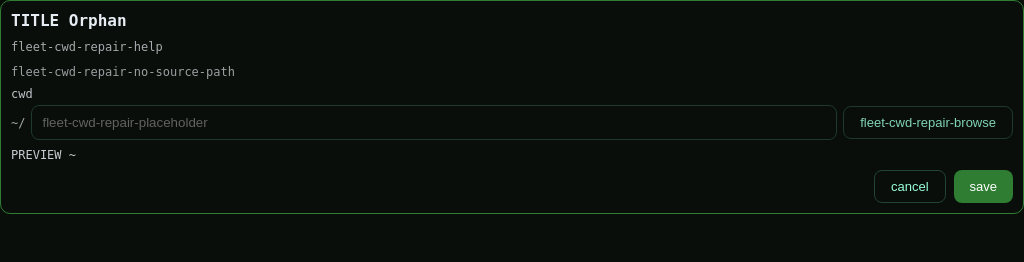
Test: CwdRepairDialog — unportable-cwd + suggestion as explicit choice › shows a generic error for non-unportable failures
Type "Dev" into the field with placeholder "fleet-cwd-repair-placeholder" at (434, 123), box [32,105,837,140]
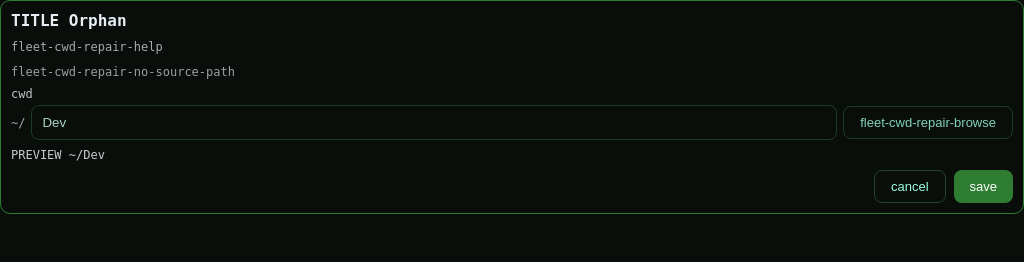
Click the button "save" at (983, 187), box [954,170,1013,203]
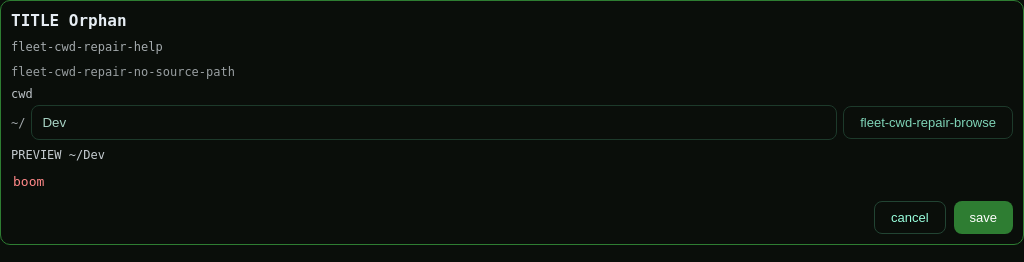
Expected: the text "boom" is shown, [13,174,44,189]
